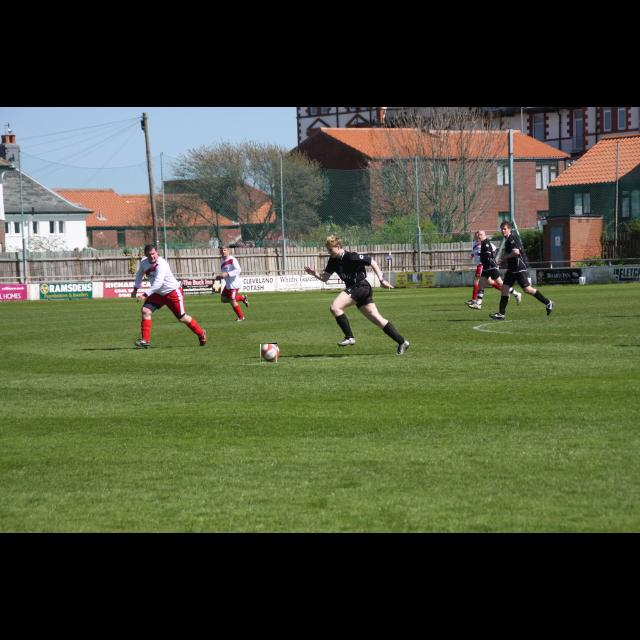Football: (261, 343, 277, 363)
